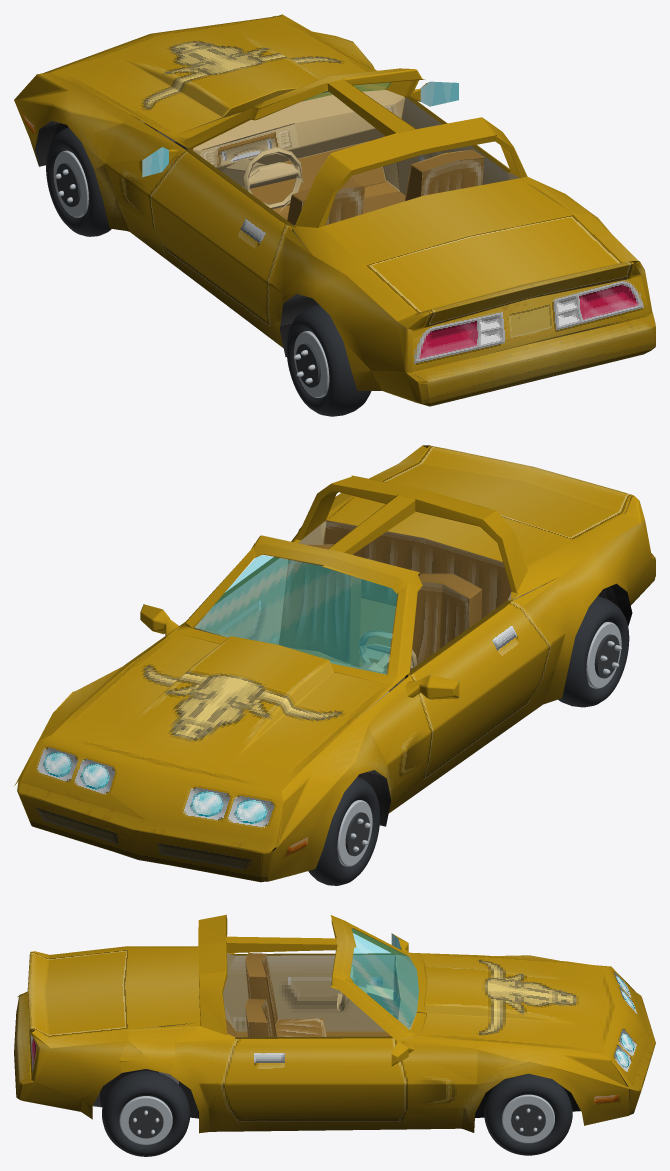
The model's file is car-apu_v.glb.
3 renders of one model, top to bottom at view 1: azimuth 30°, elevation 25°; view 2: azimuth 150°, elevation 25°; view 3: azimuth 270°, elevation 25°, orthographic. The views are drawn at different scales.
Parts seen in each view (by area): view 1: apu_vShape.001, apu_vShape.002, HoodRotShape, apu_vShape.005, TrunkRotShape, DoorDRotShape.001, apu_vShape.006, Rounded tire.001, Rounded tire.002, apu_vShape.003, apu_vShape.004, apu_vShape (+5 smaller); view 2: HoodRotShape, apu_vShape.004, apu_vShape.002, apu_vShape.005, apu_vShape.001, apu_vShape.008, DoorDRotShape.001, TrunkRotShape, apu_vShape.006, DoorPRotShape.003, Rounded tire.001, Rounded tire.002 (+6 smaller); view 3: apu_vShape.003, HoodRotShape, DoorPRotShape.002, apu_vShape.001, TrunkRotShape, DoorDRotShape.002, apu_vShape.005, apu_vShape.006, apu_vShape.004, apu_vShape.008, Rounded tire, Rounded tire.003 (+7 smaller).
Part boxes in pixels (box(x1,y1,x2,y2)): apu_vShape.001: box(132, 68, 655, 406); apu_vShape.002: box(14, 73, 610, 404); HoodRotShape: box(50, 16, 389, 136); apu_vShape.005: box(192, 86, 625, 327); TrunkRotShape: box(363, 213, 633, 326); DoorDRotShape.001: box(148, 149, 292, 323); apu_vShape.006: box(295, 79, 527, 227); Rounded tire.001: box(286, 305, 371, 416); Rounded tire.002: box(46, 127, 111, 236); apu_vShape.003: box(281, 14, 655, 347); apu_vShape.004: box(21, 14, 458, 177); apu_vShape: box(35, 62, 626, 390); HoodRotShape: box(51, 632, 390, 791); apu_vShape.004: box(17, 604, 459, 882); apu_vShape.002: box(267, 493, 655, 881); apu_vShape.005: box(186, 520, 520, 716); apu_vShape.001: box(140, 496, 655, 733); apu_vShape.008: box(194, 555, 397, 674); DoorDRotShape.001: box(410, 600, 552, 776); TrunkRotShape: box(380, 445, 633, 540); apu_vShape.006: box(296, 475, 527, 592); DoorPRotShape.003: box(197, 558, 288, 644); Rounded tire.001: box(558, 596, 629, 707); Rounded tire.002: box(308, 776, 380, 885); apu_vShape.003: box(19, 953, 635, 1133); HoodRotShape: box(421, 953, 614, 1054); DoorPRotShape.002: box(218, 1038, 409, 1118); apu_vShape.001: box(14, 915, 480, 1099); TrunkRotShape: box(27, 949, 129, 1037); DoorDRotShape.002: box(223, 955, 394, 1031); apu_vShape.005: box(48, 952, 426, 1038); apu_vShape.006: box(198, 914, 336, 1035); apu_vShape.004: box(391, 933, 655, 1114); apu_vShape.008: box(350, 928, 418, 1028); Rounded tire: box(102, 1071, 190, 1156); Rounded tire.003: box(484, 1073, 572, 1155).
Size of the model in its own units: 2.48 by 1.59 by 5.59.
Materials: 13 (10 with a texture image).
